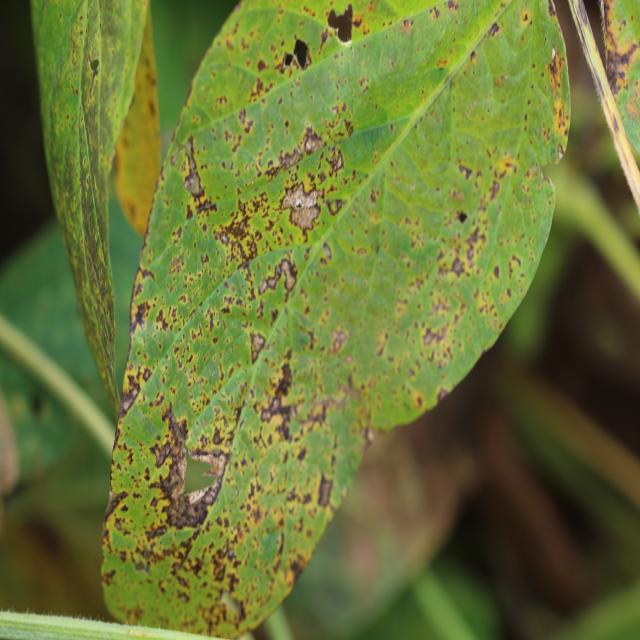Bacterial_Blight: (120, 405, 227, 536), (294, 375, 359, 439), (169, 307, 225, 378), (179, 135, 216, 212), (215, 229, 256, 283), (451, 224, 487, 276), (280, 193, 321, 238), (258, 256, 298, 301), (327, 2, 355, 46), (268, 359, 294, 400), (546, 45, 565, 97), (283, 38, 312, 72), (119, 379, 141, 416), (130, 543, 154, 575), (275, 147, 305, 172), (102, 487, 123, 522), (325, 145, 345, 177), (495, 154, 518, 181), (317, 473, 333, 507), (249, 331, 267, 361), (248, 75, 270, 99), (423, 325, 445, 346), (330, 328, 346, 352), (508, 254, 522, 278), (240, 113, 254, 135), (129, 628, 159, 638), (101, 568, 116, 586), (458, 163, 473, 180), (89, 57, 100, 79), (399, 18, 413, 35), (212, 427, 224, 446), (343, 120, 355, 137), (215, 95, 228, 110), (437, 387, 450, 402), (542, 174, 553, 190), (521, 7, 531, 24), (457, 209, 468, 224), (489, 22, 500, 37), (70, 44, 77, 67), (547, 1, 556, 18), (612, 114, 620, 132), (494, 75, 505, 88), (436, 57, 449, 68), (447, 0, 458, 13), (257, 58, 267, 72), (431, 7, 440, 20), (557, 144, 564, 159), (70, 83, 78, 96), (469, 49, 476, 63), (551, 46, 556, 61), (331, 105, 338, 115), (82, 155, 88, 166), (409, 183, 416, 191), (245, 163, 251, 172)
Soybean: (102, 0, 570, 637)
